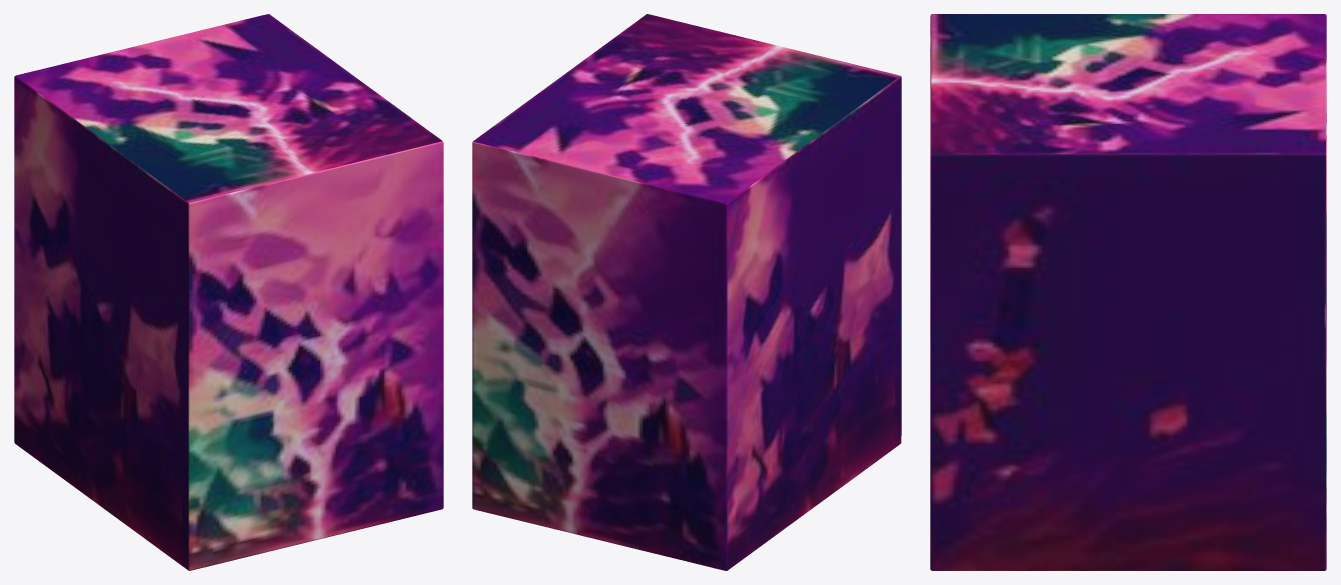
Rendered from riftshard_b.glb.
3 renders of one model, left to right at view 1: azimuth 30°, elevation 25°; view 2: azimuth 150°, elevation 25°; view 3: azimuth 270°, elevation 25°, orthographic. The views are drawn at different scales.
Parts seen in each view (by area): view 1: riftshard_b; view 2: riftshard_b; view 3: riftshard_b.
Boxes of the visible parts, x1,y1,x2,y2 form: riftshard_b: [14, 14, 443, 570]; riftshard_b: [472, 14, 901, 570]; riftshard_b: [930, 14, 1326, 570].
Size of the model in its own units: 1.45 by 1.99 by 1.72.
Materials: 1 (1 with a texture image).
